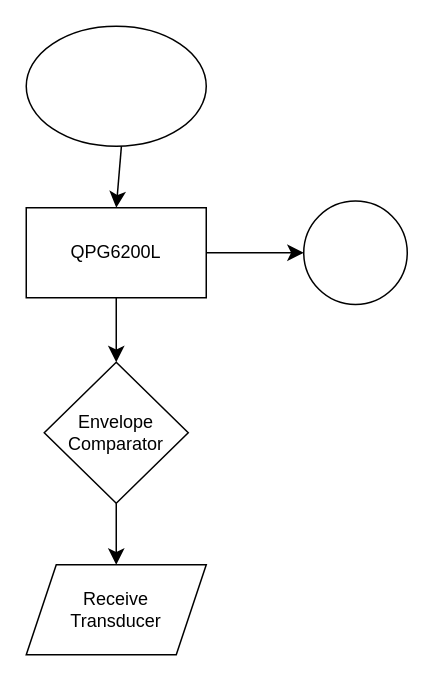
Some shapes in this 434 by 681 pixel diagram are drawn without their labels. Here are the shapes that lost their labels. From the top down, the centre of each, then its label:
pixel 115 85: Power Supply
pixel 354 252: Protocol Stack
